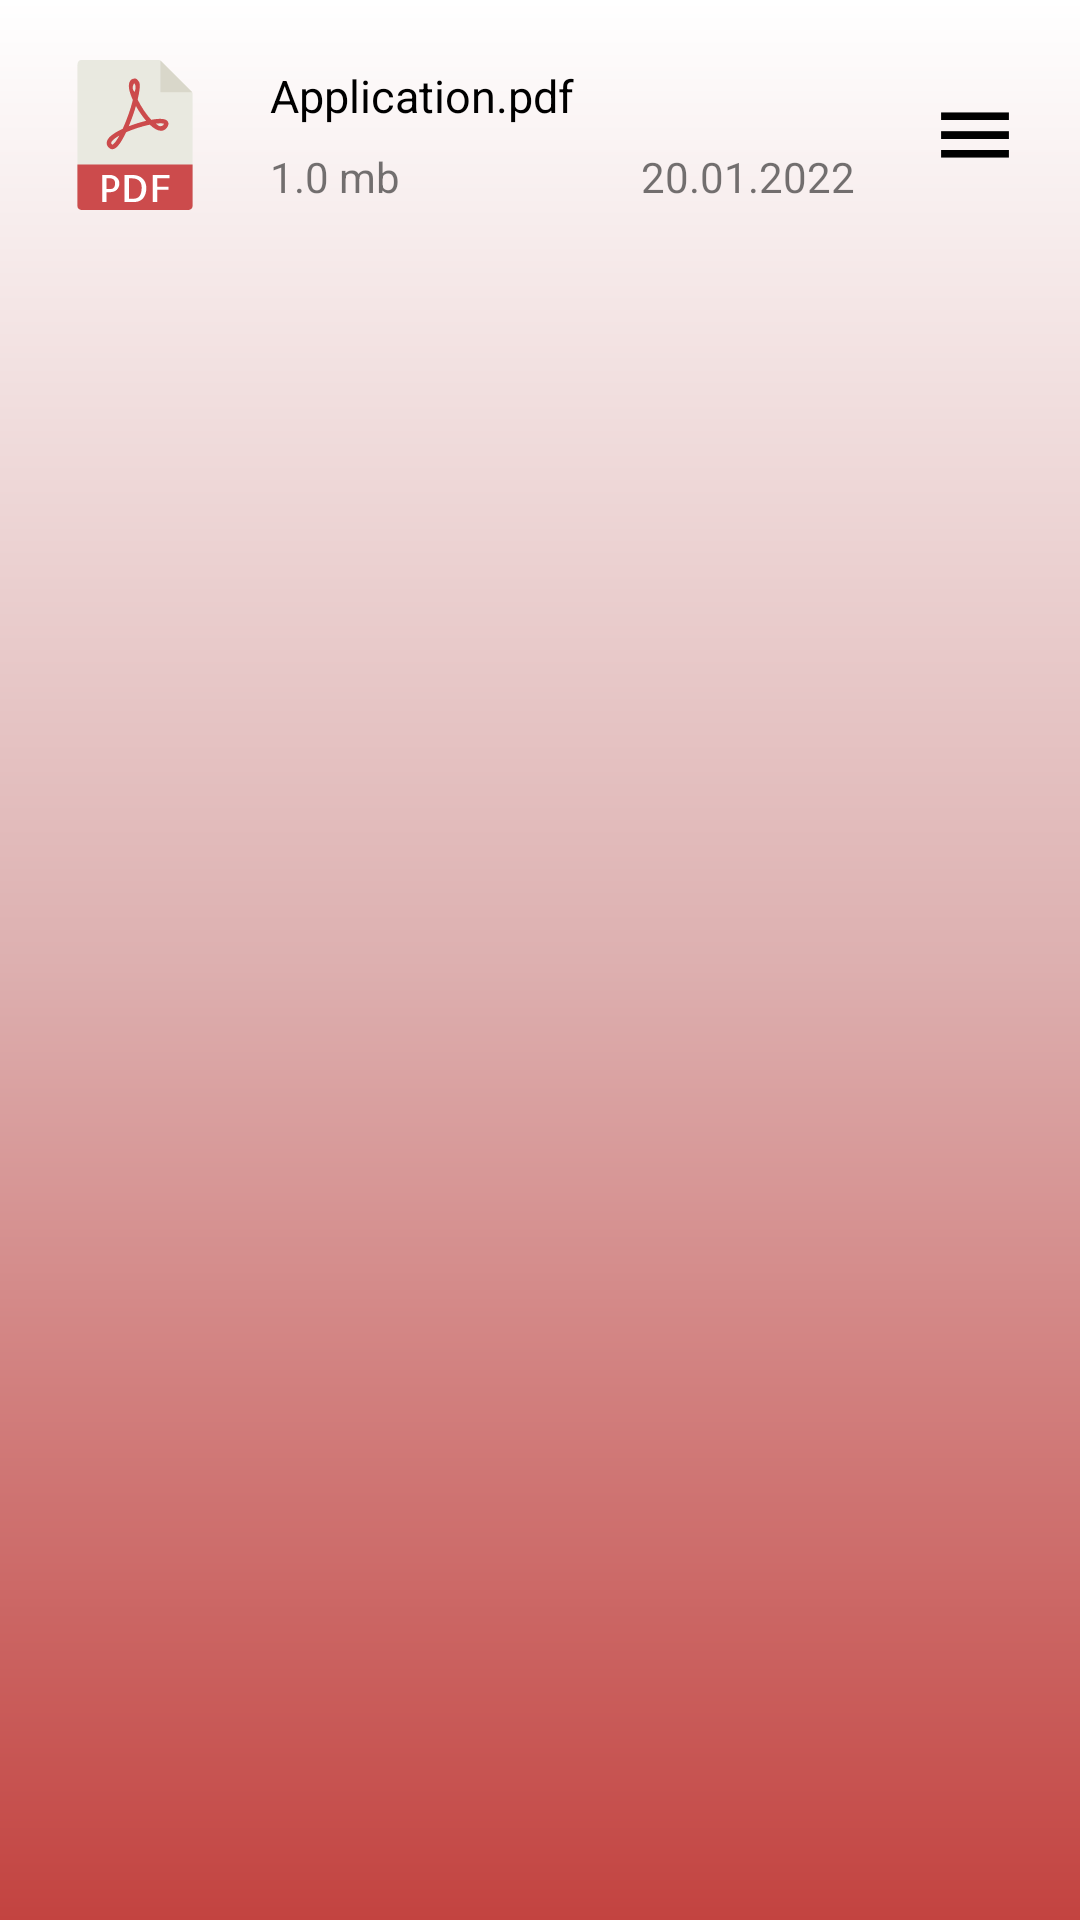

Point at icon controls on the screen. Image size 1080×1920, points as [x,y].
menu: [975,135]
